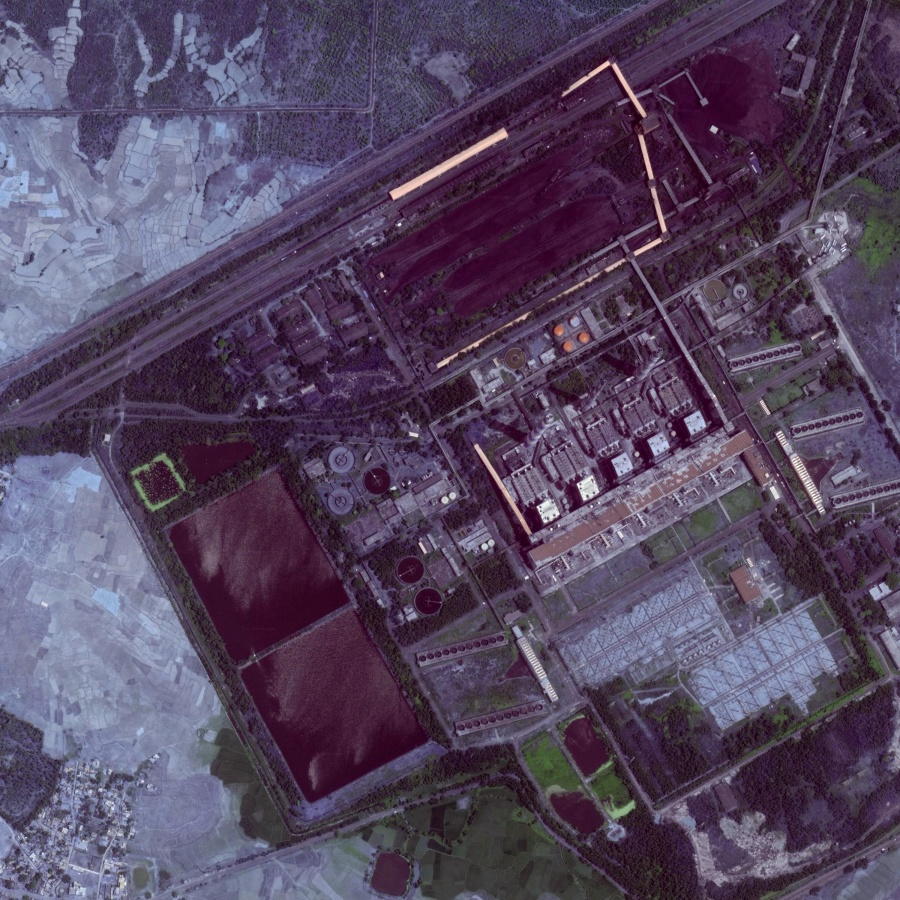PowerPlant: (354, 10, 778, 387), (140, 444, 502, 848)
